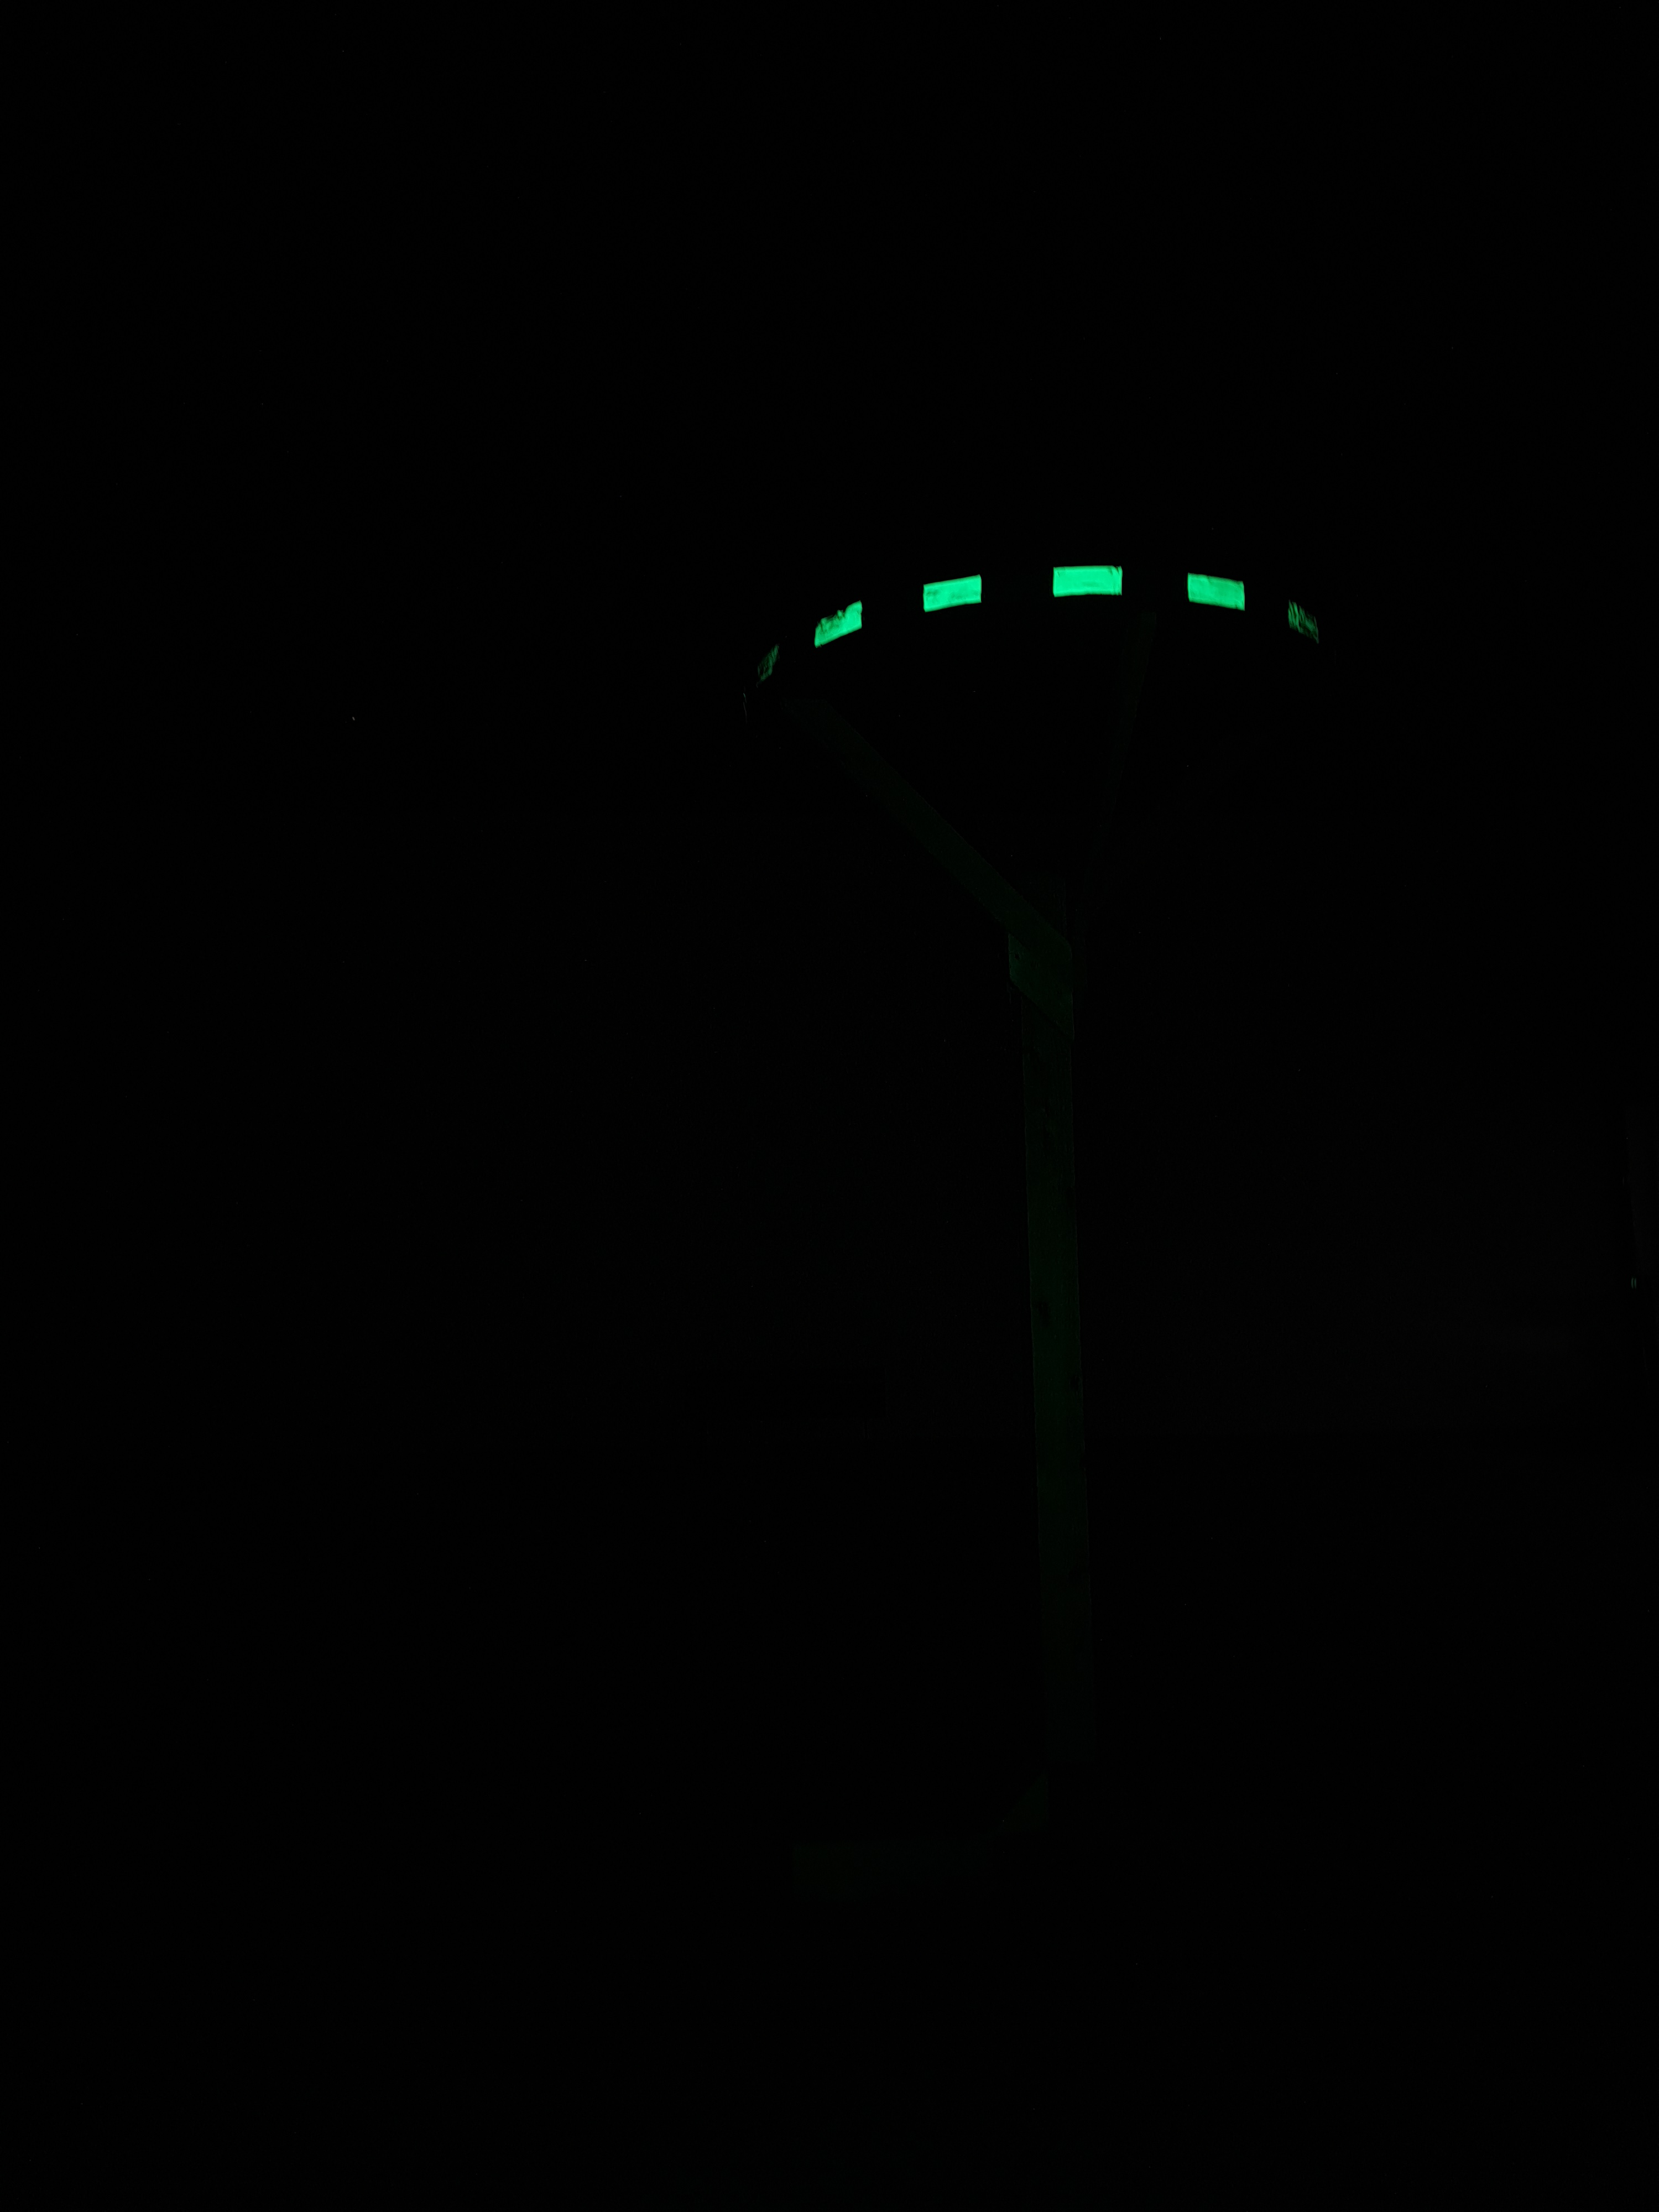hoop: (807, 557, 1326, 653)
